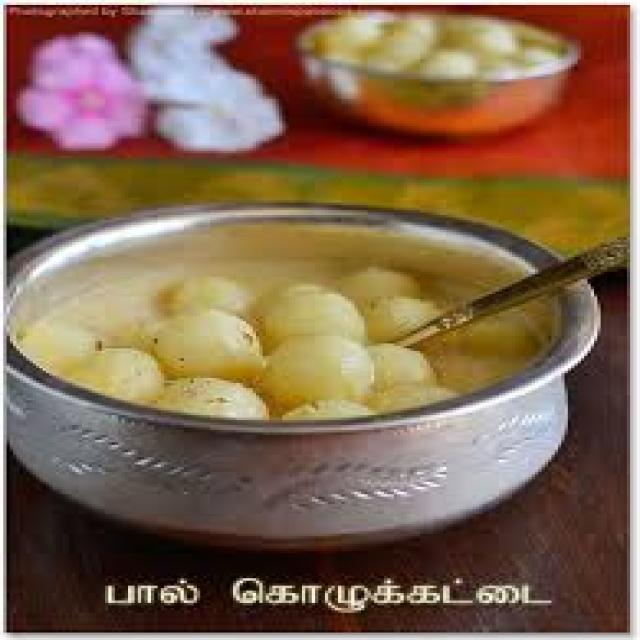paal kolukattai: (0, 198, 624, 430)
